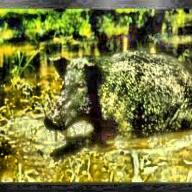boar: (38, 31, 191, 154)
